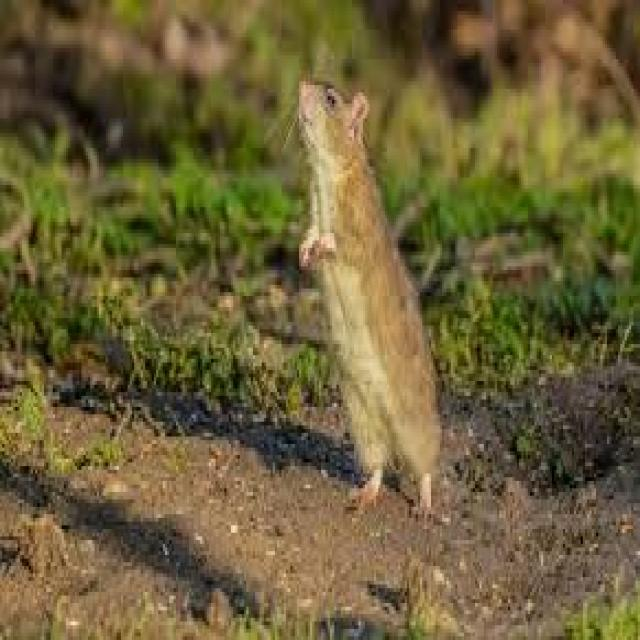rat: (288, 70, 442, 522)
